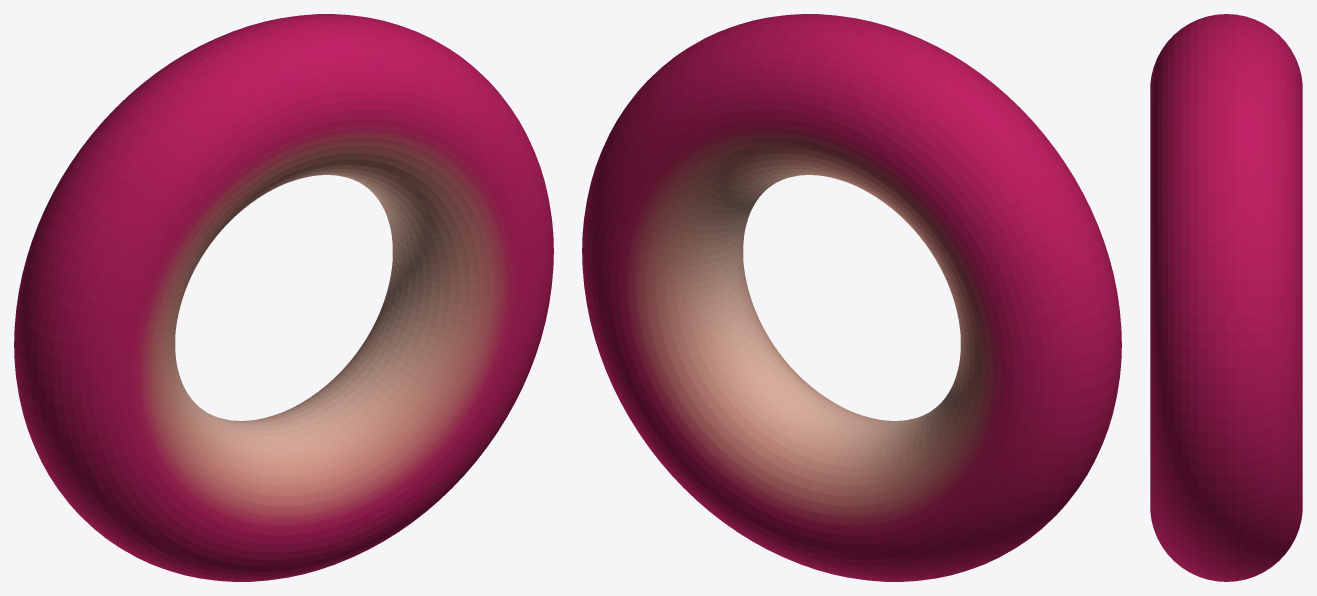
3 renders of one model, left to right at view 1: azimuth 30°, elevation 25°; view 2: azimuth 150°, elevation 25°; view 3: azimuth 270°, elevation 25°, orthographic. The views are drawn at different scales.
Parts seen in each view (by area): view 1: world; view 2: world; view 3: world.
Boxes of the visible parts, <box> form: world: <box>14,14,553,581</box>; world: <box>582,14,1121,581</box>; world: <box>1150,14,1302,581</box>.
Size of the model in its own units: 17.33 by 17.33 by 4.66.
